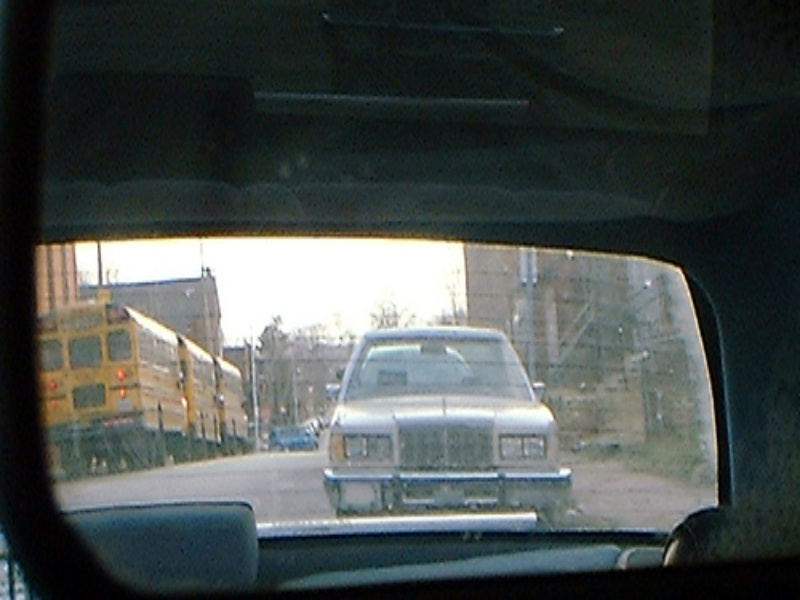car: (324, 327, 570, 523), (38, 303, 248, 472)
